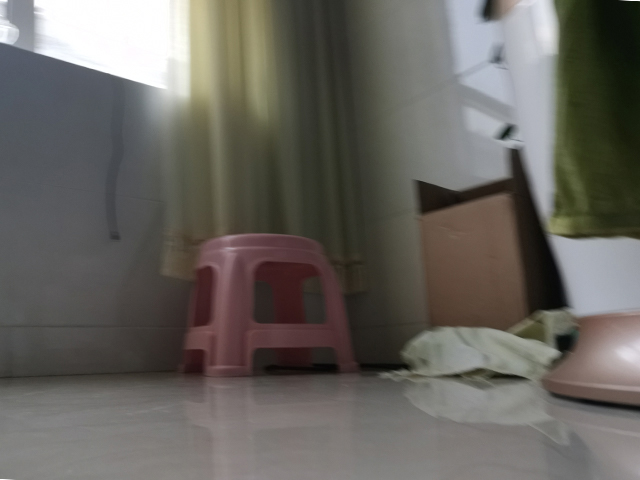curtain: (155, 1, 372, 299)
stool: (175, 230, 365, 381)
